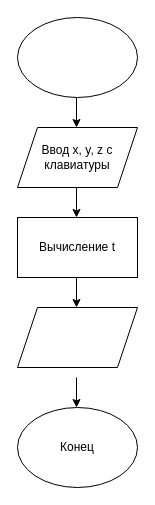
The diagram is 155 pixels wide and 505 high, and some of its shapes have lost their labels. Each missing label, with the centre of its shape:
"Вывод результатов" goes at (x=77, y=337).
"Начало" goes at (x=77, y=57).
